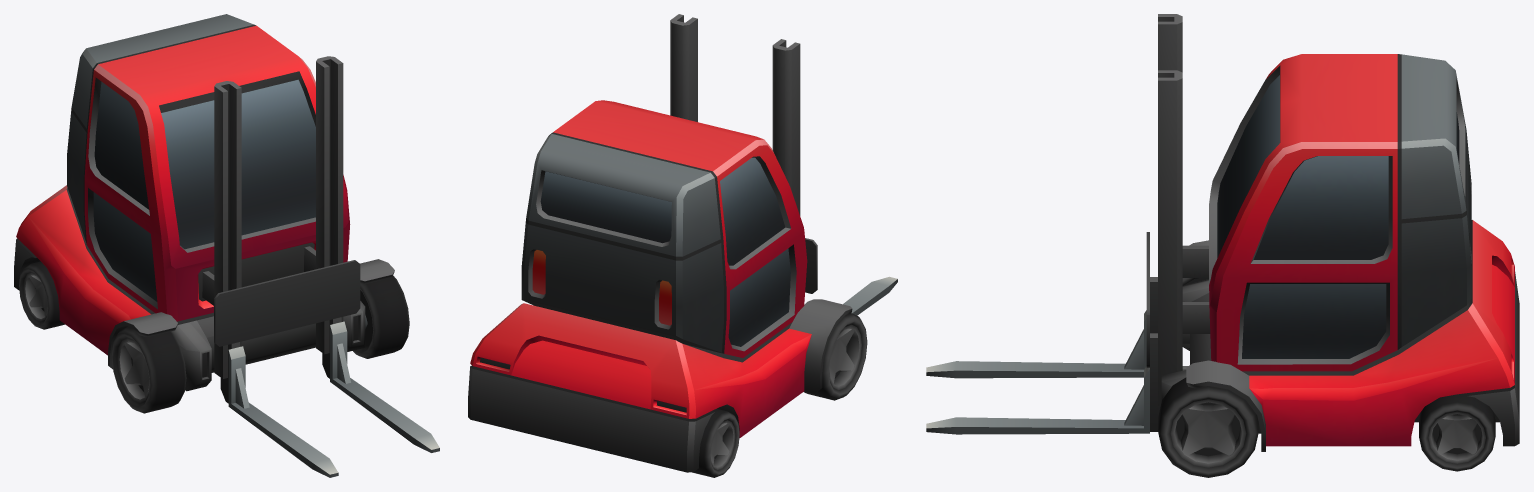
File: Forklift_1B.fbx
3 views of the same model, side by side, from view 1: azimuth 30°, elevation 25°; view 2: azimuth 150°, elevation 25°; view 3: azimuth 270°, elevation 25° (orthographic). The views are drawn at different scales.
Parts seen in each view (by area): view 1: Forklift_1B, Forklift_1B_Forks, Forklift_1B_Wheel_F.R, Forklift_1B_Wheel_F.L, Forklift_1B_Wheel_R.R; view 2: Forklift_1B, Forklift_1B_Wheel_F.R, Forklift_1B_Wheel_R.R, Forklift_1B_Forks; view 3: Forklift_1B, Forklift_1B_Forks, Forklift_1B_Wheel_F.L, Forklift_1B_Wheel_R.L.
Boxes of the visible parts, x1=… form: Forklift_1B: x1=14, y1=14, x2=394, y2=391; Forklift_1B_Forks: x1=214, y1=260, x2=439, y2=477; Forklift_1B_Wheel_F.R: x1=111, y1=327, x2=186, y2=413; Forklift_1B_Wheel_F.L: x1=353, y1=275, x2=409, y2=358; Forklift_1B_Wheel_R.R: x1=19, y1=261, x2=64, y2=329; Forklift_1B: x1=468, y1=14, x2=852, y2=472; Forklift_1B_Wheel_F.R: x1=804, y1=313, x2=867, y2=400; Forklift_1B_Wheel_R.R: x1=692, y1=408, x2=739, y2=477; Forklift_1B_Forks: x1=805, y1=238, x2=897, y2=315; Forklift_1B: x1=1158, y1=14, x2=1519, y2=451; Forklift_1B_Forks: x1=926, y1=232, x2=1160, y2=434; Forklift_1B_Wheel_F.L: x1=1158, y1=377, x2=1258, y2=477; Forklift_1B_Wheel_R.L: x1=1419, y1=393, x2=1495, y2=471.
Size of the model in its own units: 2.13 by 2.5 by 3.72.
